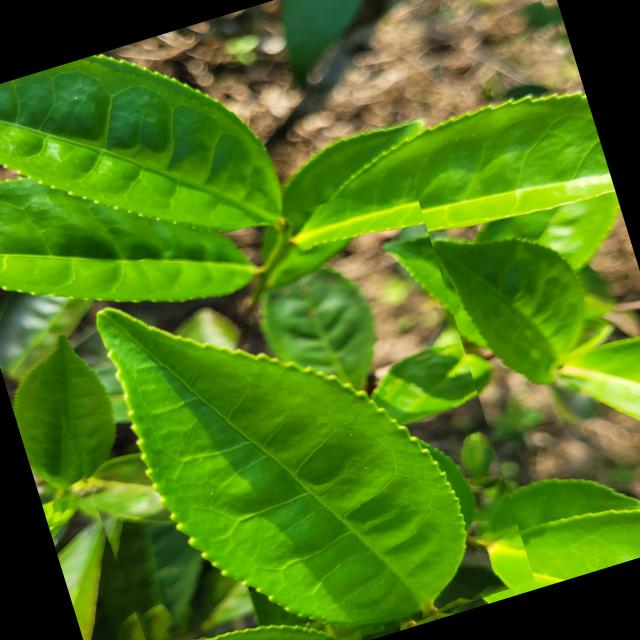Category B(2-4 days): (18, 176, 537, 640)
